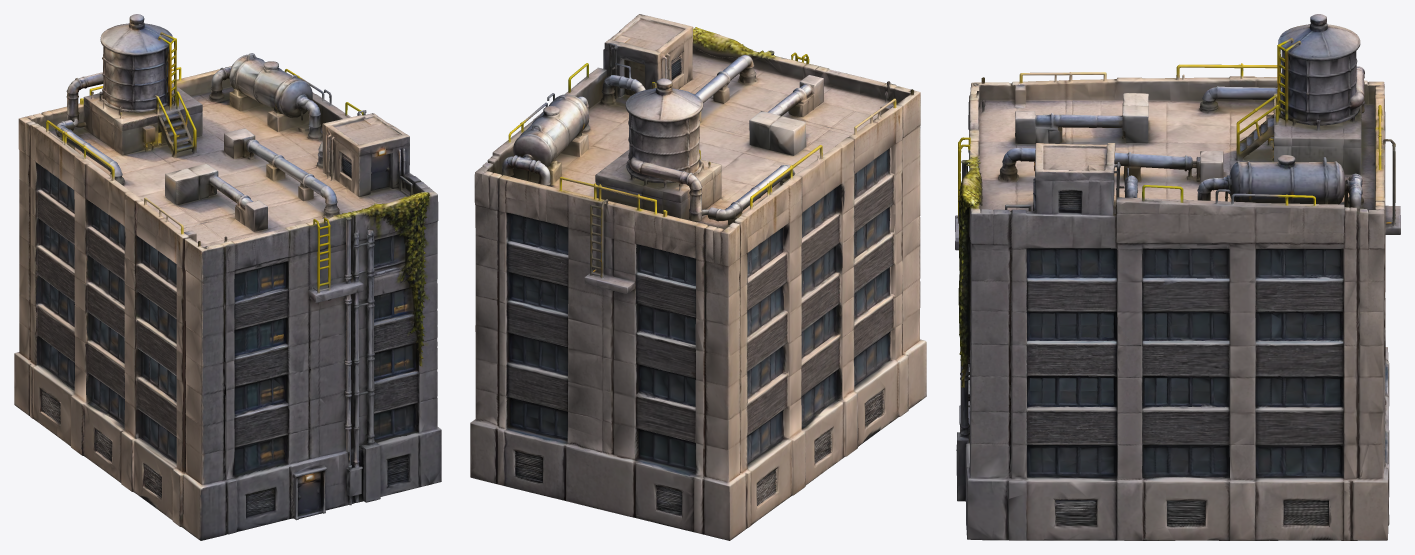
File: roof-02.glb
3 renders of one model, left to right at view 1: azimuth 30°, elevation 25°; view 2: azimuth 150°, elevation 25°; view 3: azimuth 270°, elevation 25°, orthographic. The views are drawn at different scales.
Parts seen in each view (by area): view 1: tripo_node_ca1f871e-0aae-41d7-9bef-88208d2b0ed0; view 2: tripo_node_ca1f871e-0aae-41d7-9bef-88208d2b0ed0; view 3: tripo_node_ca1f871e-0aae-41d7-9bef-88208d2b0ed0.
Part boxes in pixels (x1,y1,x2,y2): tripo_node_ca1f871e-0aae-41d7-9bef-88208d2b0ed0: (14,14,441,540); tripo_node_ca1f871e-0aae-41d7-9bef-88208d2b0ed0: (470,14,926,540); tripo_node_ca1f871e-0aae-41d7-9bef-88208d2b0ed0: (955,14,1400,540).
Bounding box in the file's own units: 0.6515 × 0.9785 × 0.8947.
Materials: 1 (1 with a texture image).
